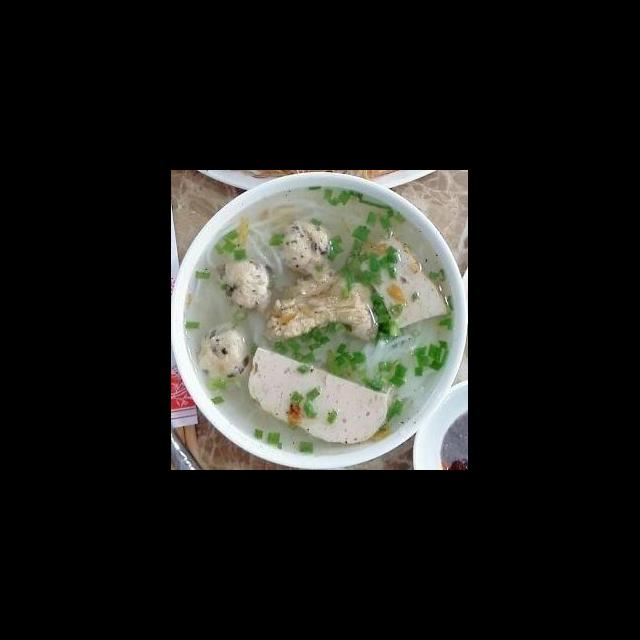vien moc: (196, 320, 256, 381), (214, 256, 274, 315), (276, 218, 336, 276)
